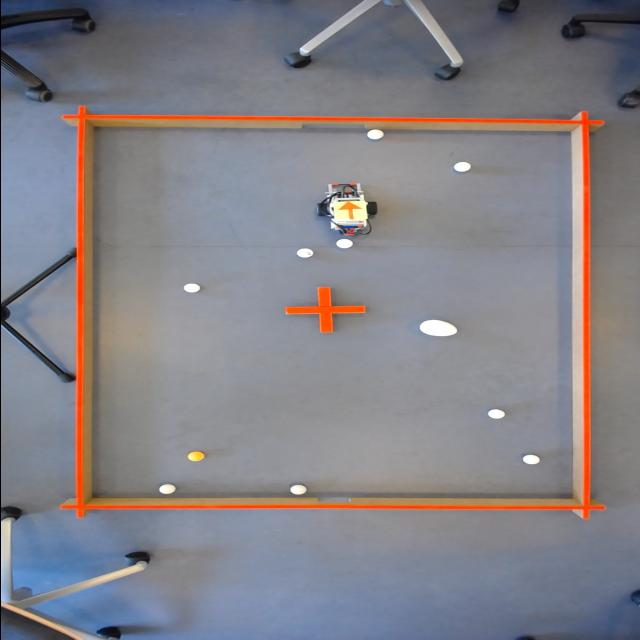cross: (282, 285, 367, 334)
egg: (416, 318, 461, 338)
orange_ball: (182, 450, 206, 462)
robot: (326, 200, 368, 222)
white_ball: (518, 453, 542, 468), (178, 282, 202, 296), (283, 484, 307, 498), (482, 407, 507, 420), (363, 128, 389, 140), (292, 247, 318, 259), (156, 482, 179, 494), (331, 238, 356, 249), (451, 162, 473, 174)
